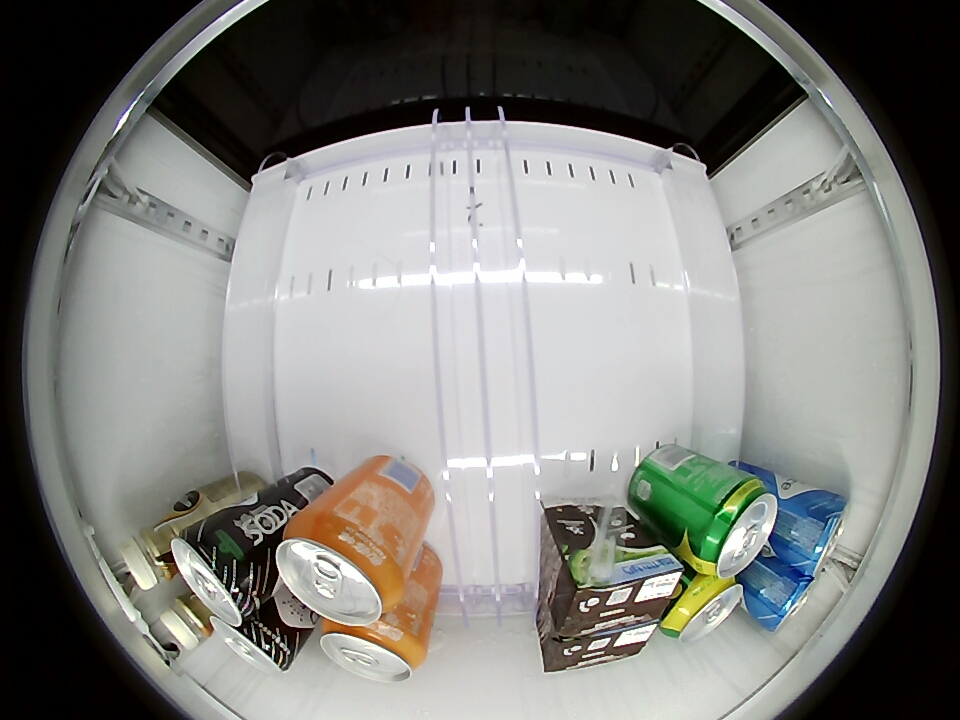fenda: (276, 511, 405, 626), (319, 617, 427, 683)
kafei: (121, 510, 188, 592), (160, 592, 217, 652)
qingdaowangzi-1: (172, 518, 263, 629), (211, 610, 294, 675)
qingdaowangzi-2: (782, 490, 850, 578), (749, 567, 818, 630)
weitanai2: (554, 543, 685, 635), (541, 620, 658, 673)
xuebi2: (683, 473, 780, 578), (661, 573, 743, 644)
